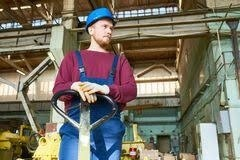helmet: (85, 6, 116, 29)
person with partial safety: (56, 7, 135, 154)
